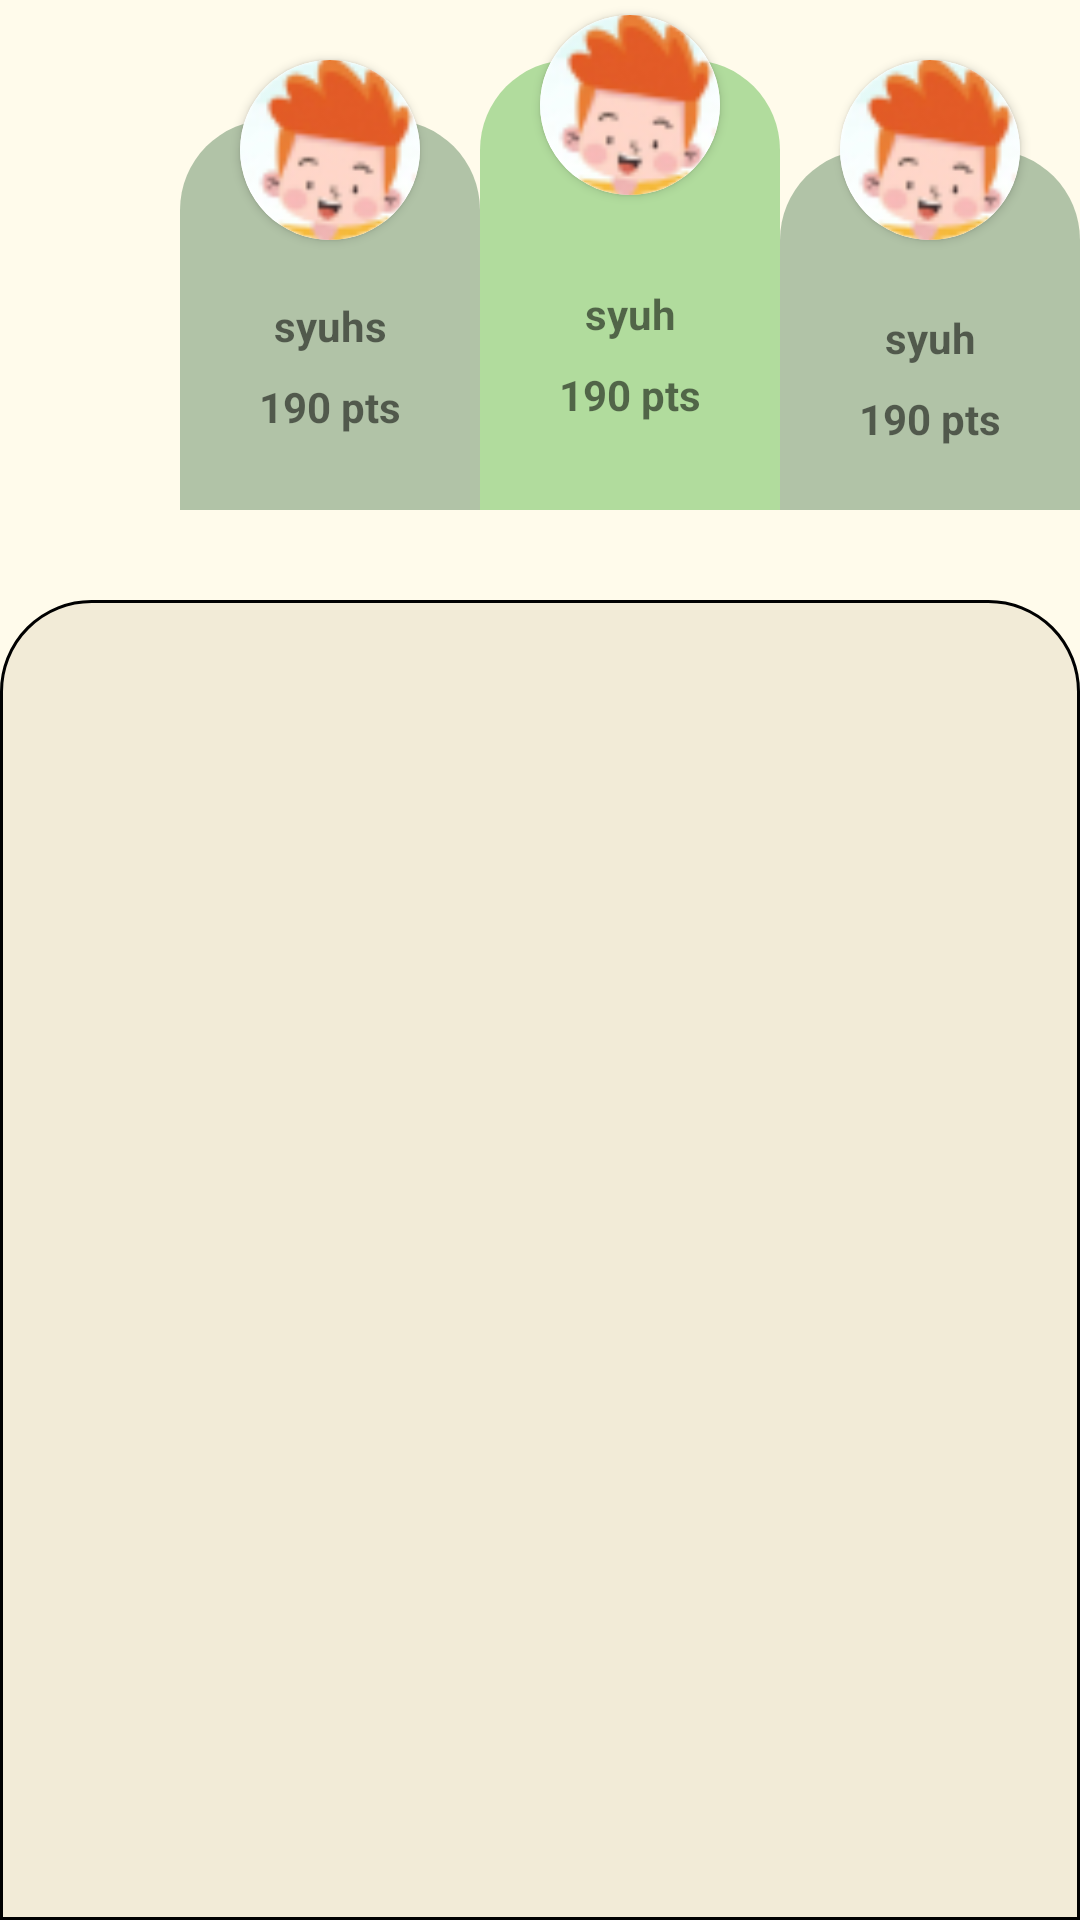

Where to tap for icons on this 1080w x 1920h app screen, as (x=x, y=y):
user profile leaderboard: (x=630, y=105), (x=330, y=150), (x=930, y=150)
